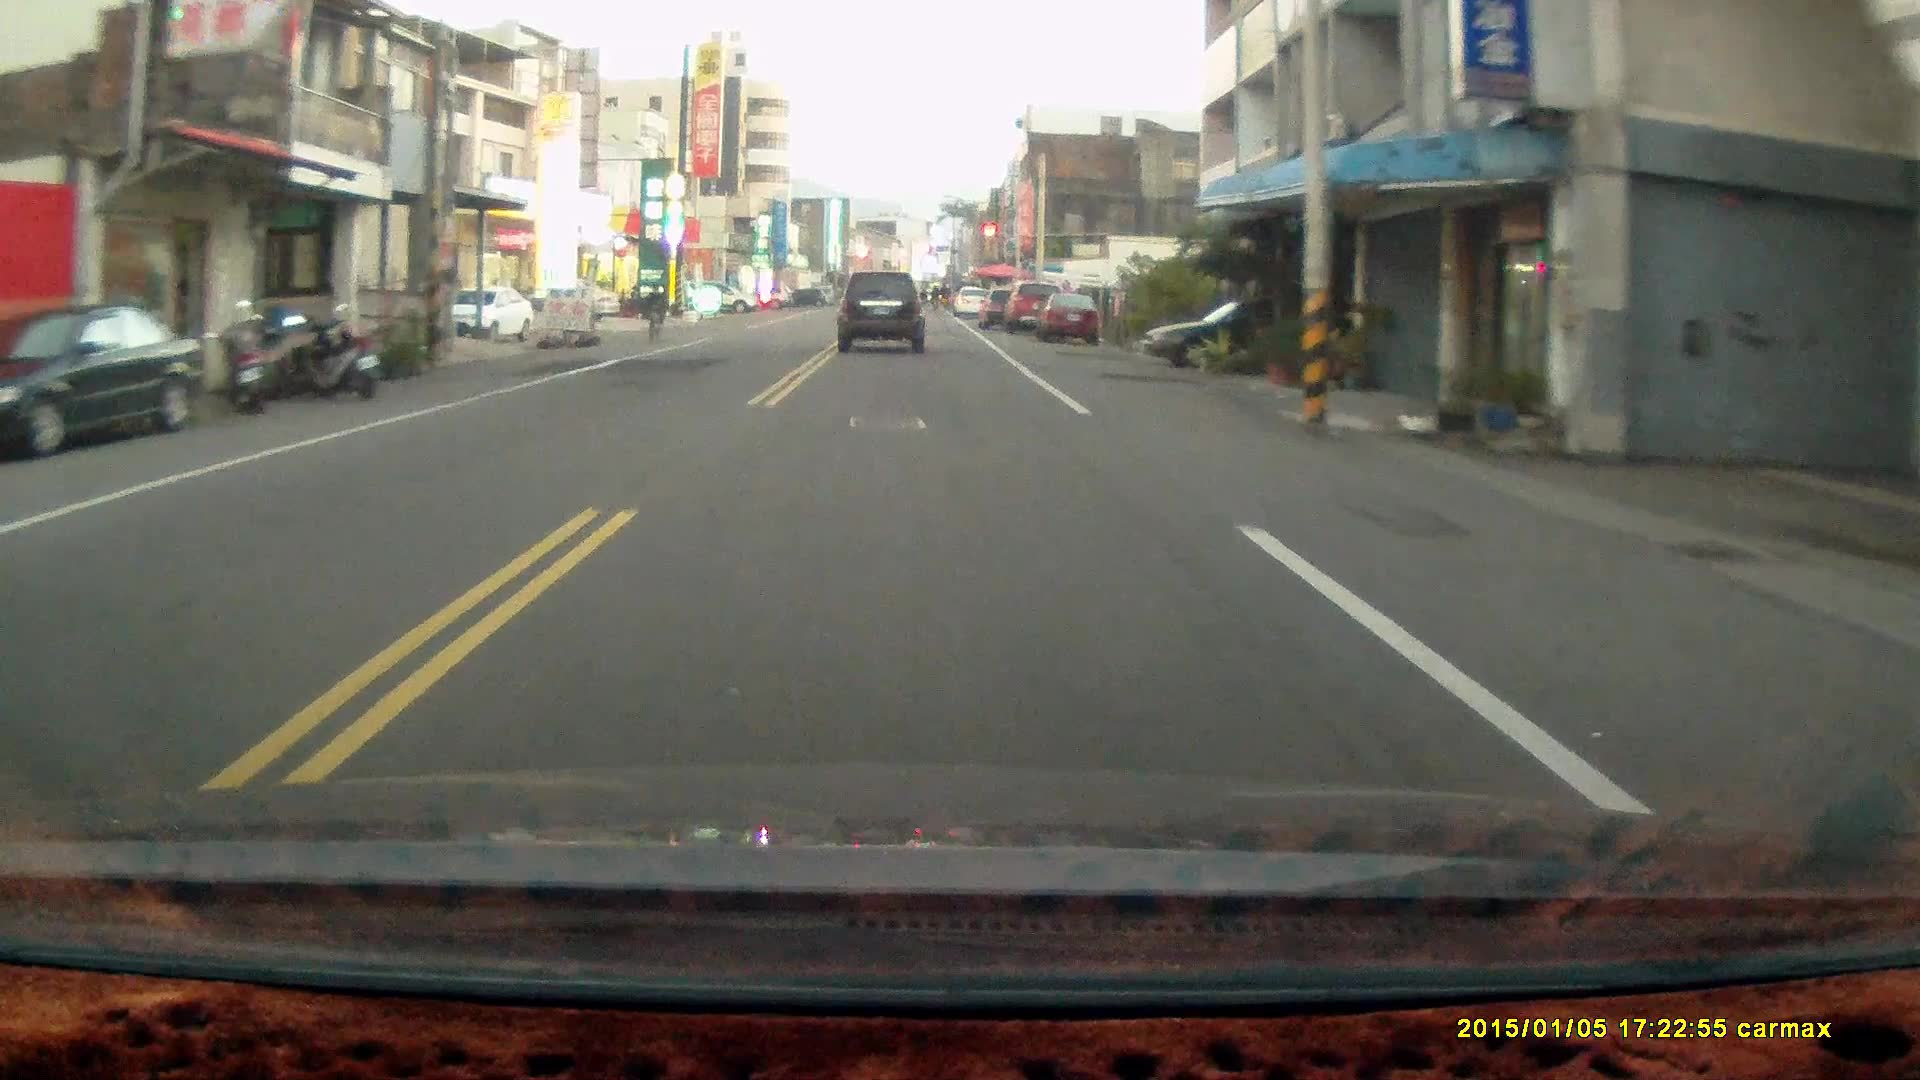rider: (641, 282, 667, 348)
vehicle: (1, 303, 211, 464), (1139, 304, 1327, 369), (837, 268, 929, 356), (442, 286, 535, 343), (1033, 291, 1101, 344)
